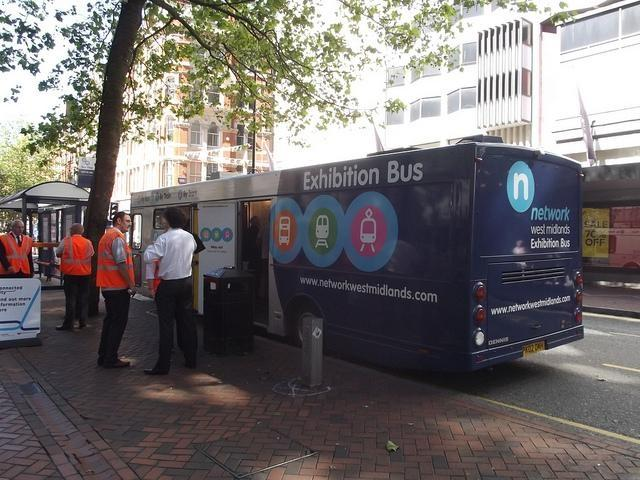bus: (133, 136, 586, 367)
